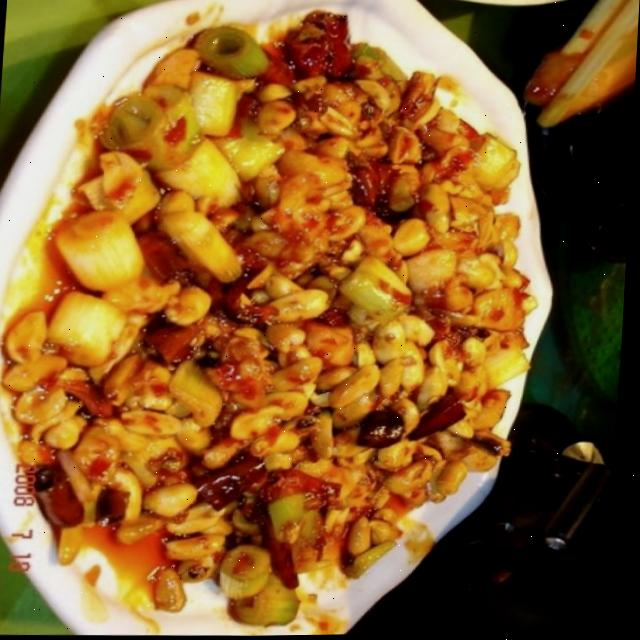鸡肉料理 含炸鸡: (0, 0, 558, 633)
